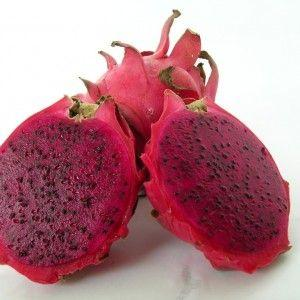dragon-fruit: (0, 85, 133, 294), (144, 98, 290, 270)
